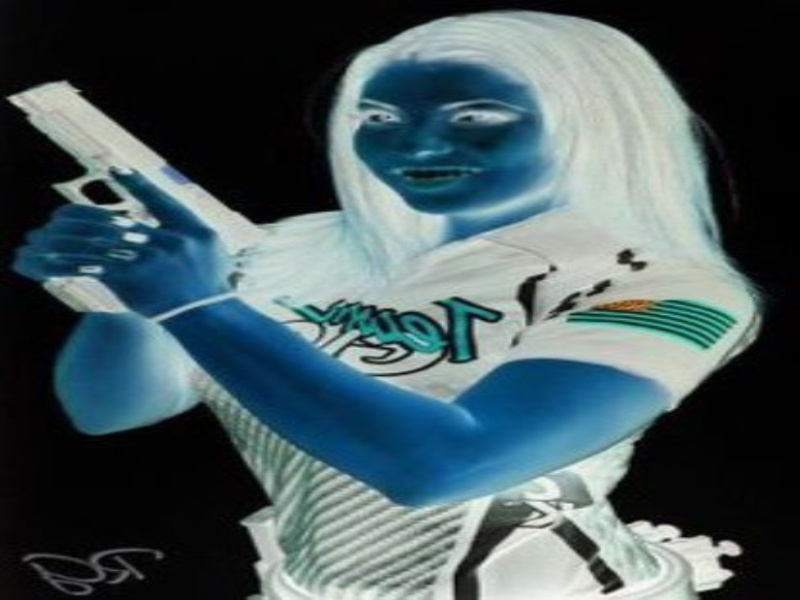wine: (271, 105, 516, 461), (572, 268, 706, 343), (113, 273, 240, 344), (129, 209, 164, 303)
